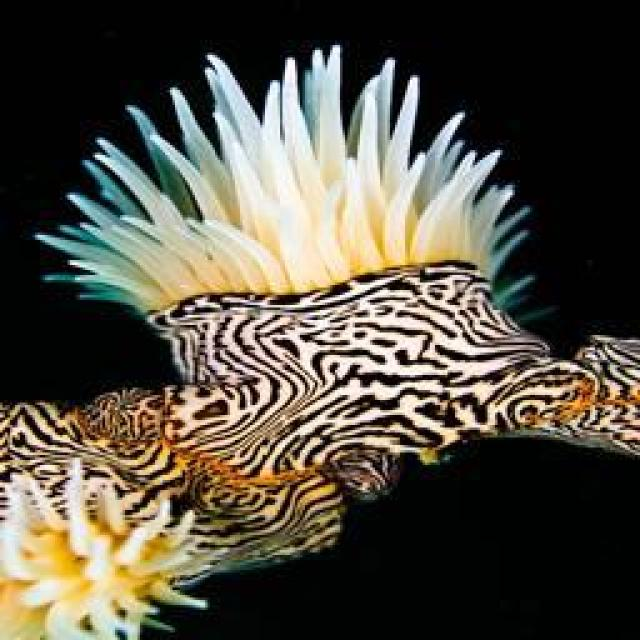reefs: (1, 44, 638, 638)
